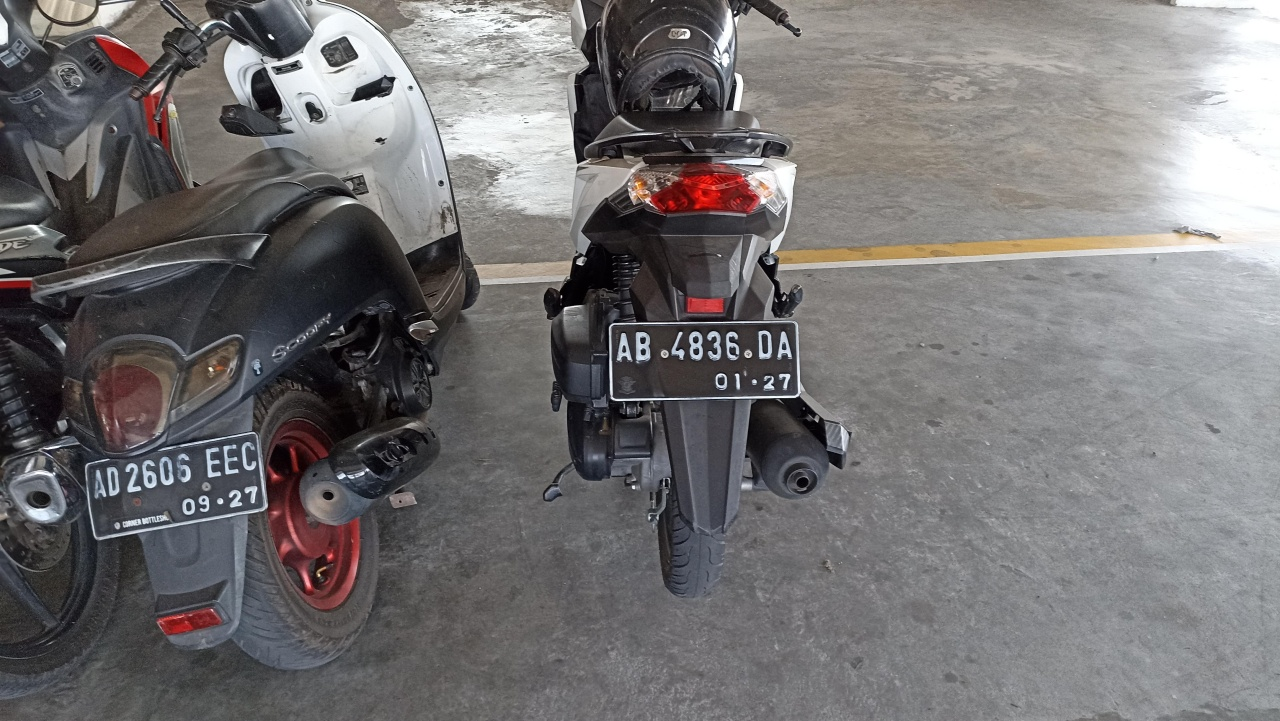plate: (83, 431, 269, 540), (609, 321, 802, 401)
